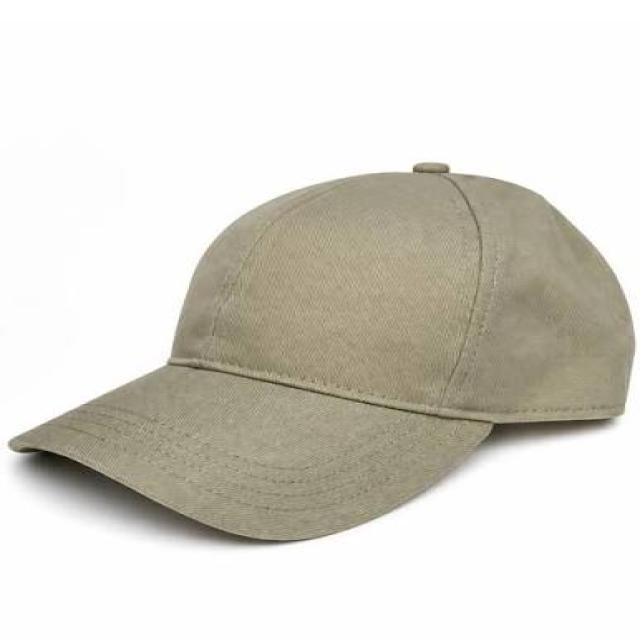Gorra: (0, 158, 637, 550)
